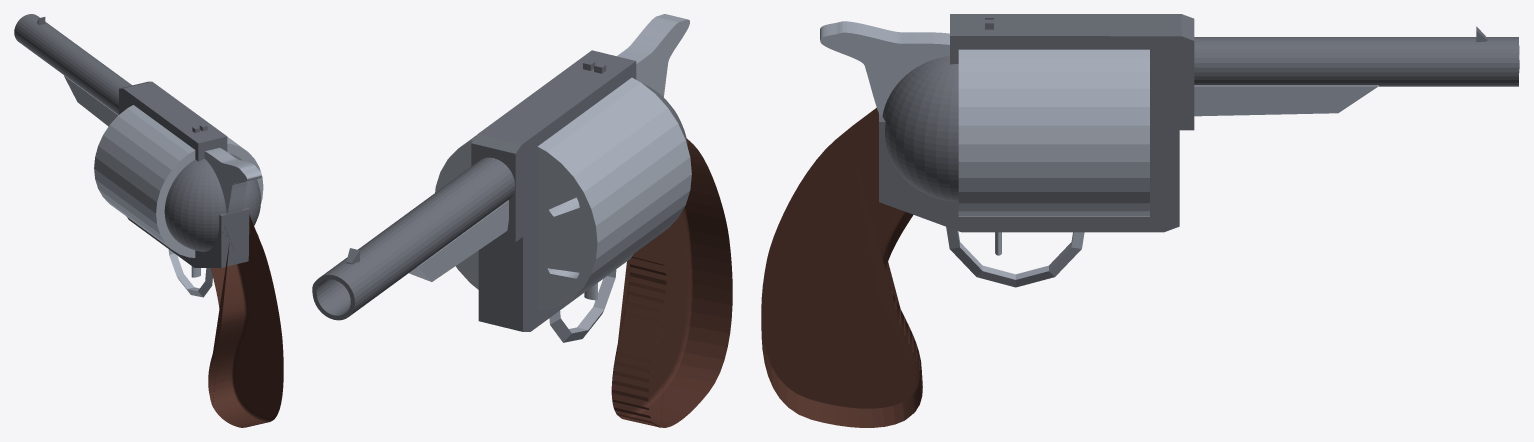
Rendered from SixShooter.fbx.
The picture shows the model from 3 angles, left to right: view 1: azimuth 30°, elevation 25°; view 2: azimuth 150°, elevation 25°; view 3: azimuth 270°, elevation 25°; orthographic projection. The views are drawn at different scales.
Visible parts, largest first — view 1: BezierCurve, Cylinder, Cube.003, Sphere, Cylinder.001, BezierCurve.002, Cube.001, Torus; view 2: Cylinder, BezierCurve, Cube.003, Cylinder.001, BezierCurve.002, Cube.001, Torus; view 3: BezierCurve, Cylinder, Cube.003, Cylinder.001, Sphere, BezierCurve.002, Cube.001, Torus.
Part boxes in pixels (x1=…): BezierCurve: x1=208, y1=214, x2=283, y2=427; Cylinder: x1=94, y1=105, x2=263, y2=257; Cube.003: x1=119, y1=81, x2=250, y2=267; Sphere: x1=164, y1=153, x2=260, y2=251; Cylinder.001: x1=14, y1=14, x2=131, y2=114; BezierCurve.002: x1=204, y1=147, x2=261, y2=214; Cube.001: x1=64, y1=75, x2=118, y2=126; Torus: x1=168, y1=249, x2=212, y2=297; Cylinder: x1=435, y1=77, x2=691, y2=310; BezierCurve: x1=611, y1=138, x2=732, y2=427; Cube.003: x1=471, y1=50, x2=636, y2=331; Cylinder.001: x1=312, y1=157, x2=514, y2=320; BezierCurve.002: x1=617, y1=14, x2=689, y2=97; Cube.001: x1=409, y1=200, x2=508, y2=281; Torus: x1=549, y1=269, x2=616, y2=342; BezierCurve: x1=761, y1=107, x2=922, y2=427; Cylinder: x1=958, y1=49, x2=1149, y2=216; Cube.003: x1=879, y1=14, x2=1194, y2=232; Cylinder.001: x1=1194, y1=37, x2=1519, y2=86; Sphere: x1=882, y1=56, x2=958, y2=201; BezierCurve.002: x1=820, y1=21, x2=949, y2=116; Cube.001: x1=1194, y1=85, x2=1378, y2=116; Torus: x1=946, y1=227, x2=1084, y2=287.
Size of the model in its own units: 200 by 464 by 793.
